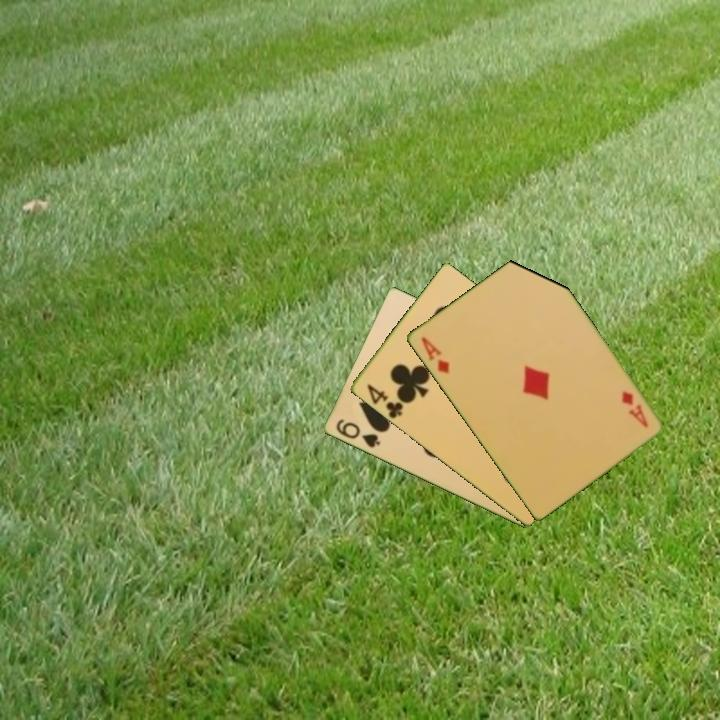4c: (363, 380, 407, 422)
6s: (332, 415, 383, 451)
Ad: (417, 333, 452, 377), (617, 387, 651, 430)
